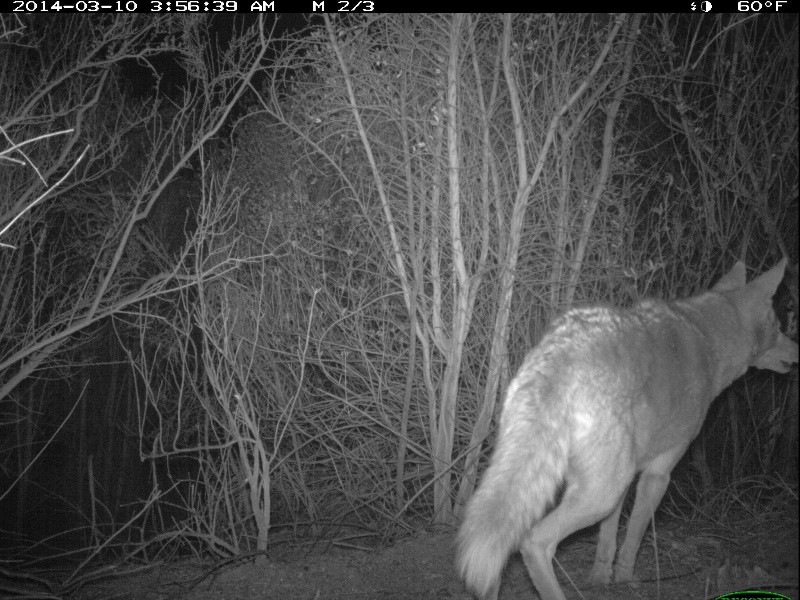coyote: (454, 246, 797, 598)
